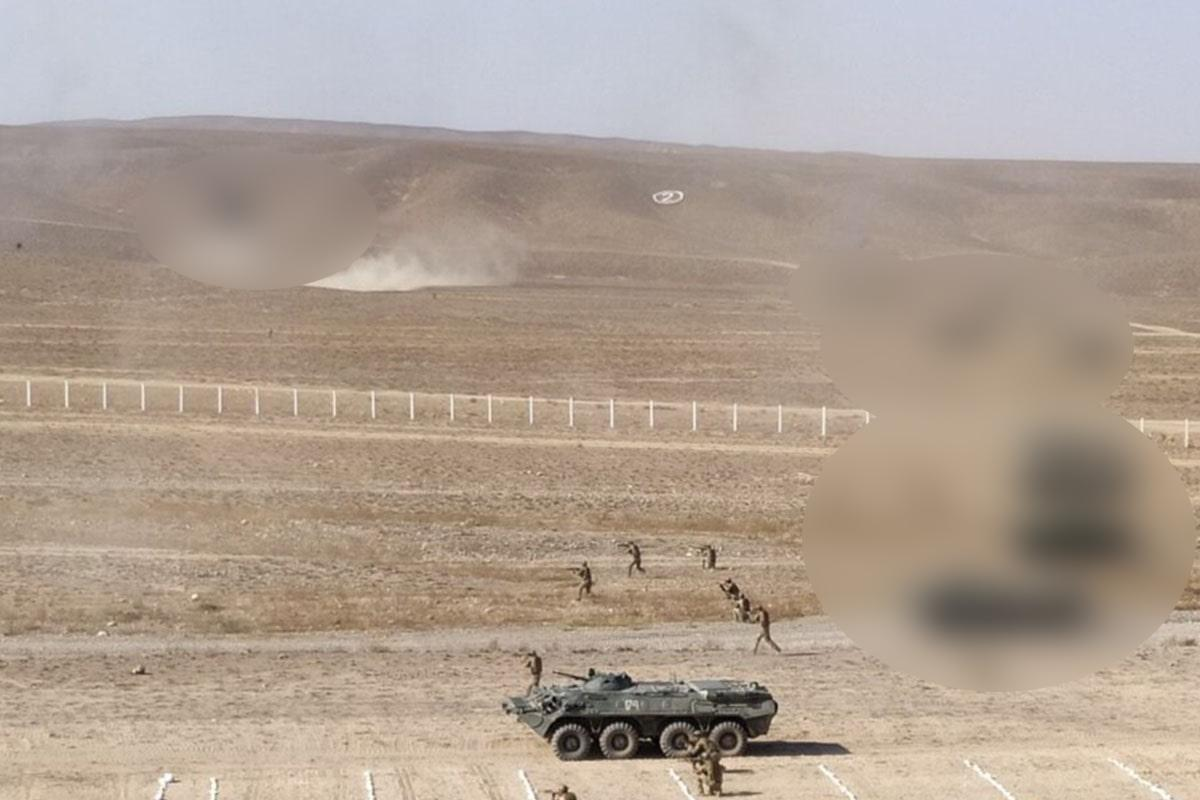armored_car: (500, 662, 776, 766)
